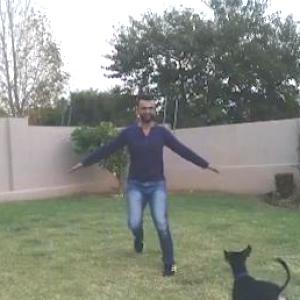land: (55, 65, 223, 292)
